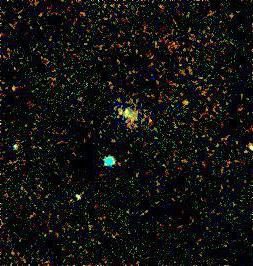star: (168, 87, 198, 117)
